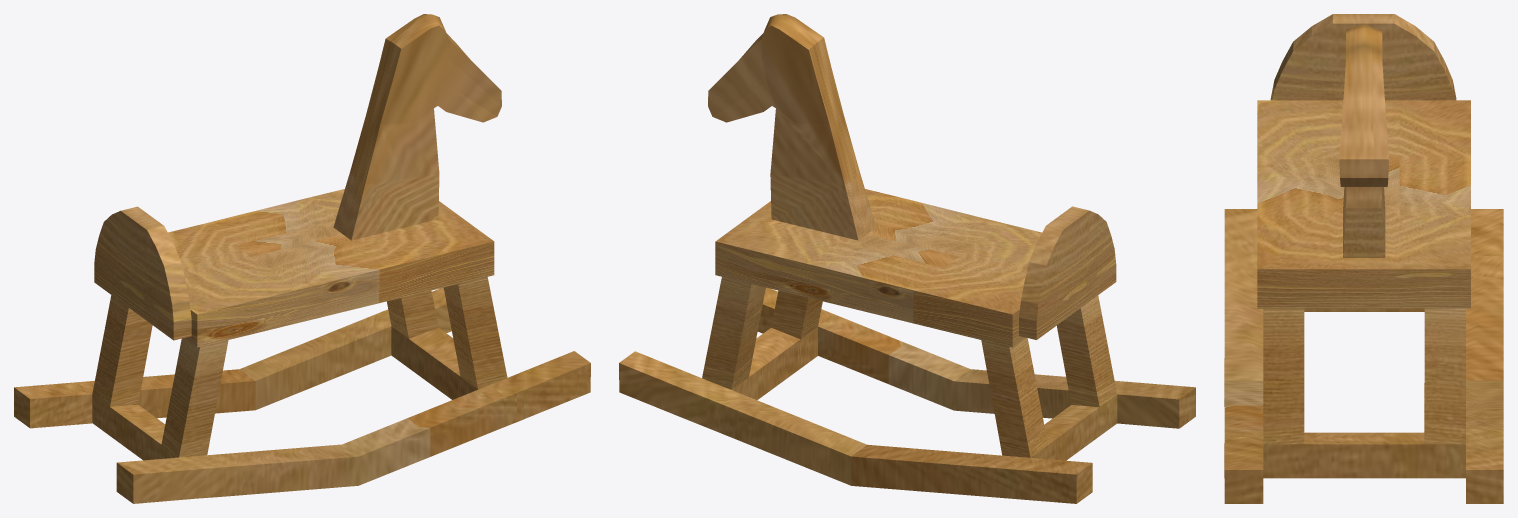
The model's file is my3dobject1.fbx.
3 views of the same model, side by side, from view 1: azimuth 30°, elevation 25°; view 2: azimuth 150°, elevation 25°; view 3: azimuth 270°, elevation 25° (orthographic). The views are drawn at different scales.
Parts seen in each view (by area): view 1: Box001; view 2: Box001; view 3: Box001.
Boxes of the visible parts, box(x1,y1,x2,y2) form: Box001: box(14, 14, 590, 503); Box001: box(619, 14, 1195, 503); Box001: box(1224, 14, 1503, 503).
Size of the model in its own units: 76.72 by 34.67 by 63.32.
Materials: 1 (1 with a texture image).
